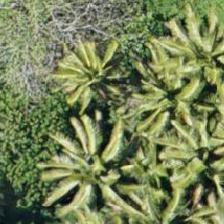coconut_tree: (54, 12, 144, 102), (65, 122, 155, 212), (136, 59, 223, 149), (154, 0, 223, 80)
